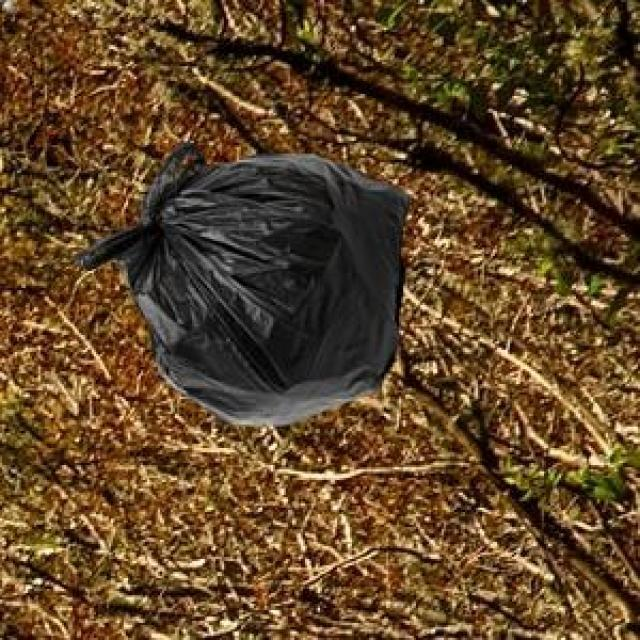Vinyl: (79, 144, 409, 426)
